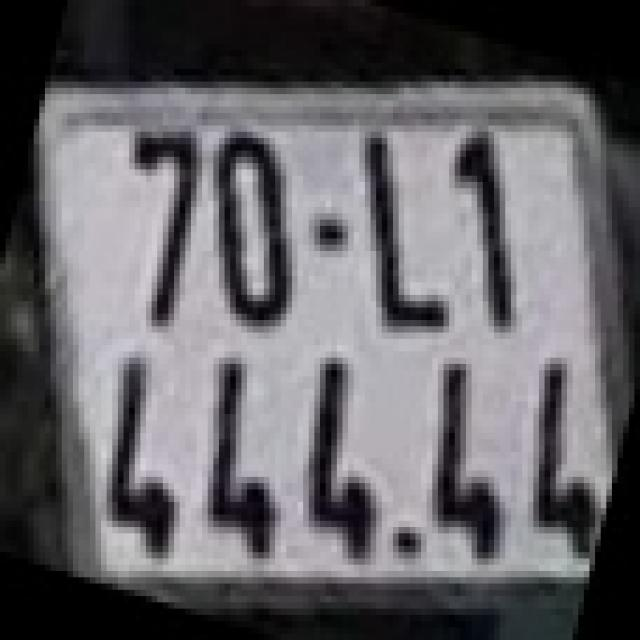0: (213, 132, 292, 320)
1: (455, 132, 522, 326)
4: (101, 358, 180, 564), (303, 358, 382, 564), (427, 358, 505, 564), (202, 358, 281, 558), (528, 358, 600, 564)
7: (129, 132, 202, 326)
L: (365, 138, 449, 326)
